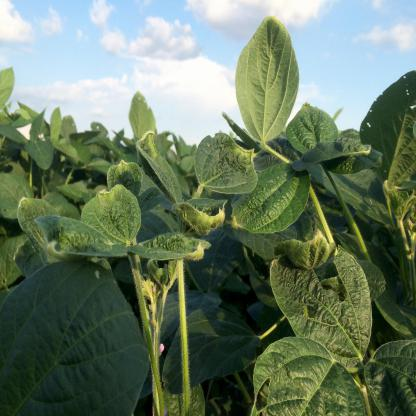soybean leaf: (235, 14, 300, 148)
